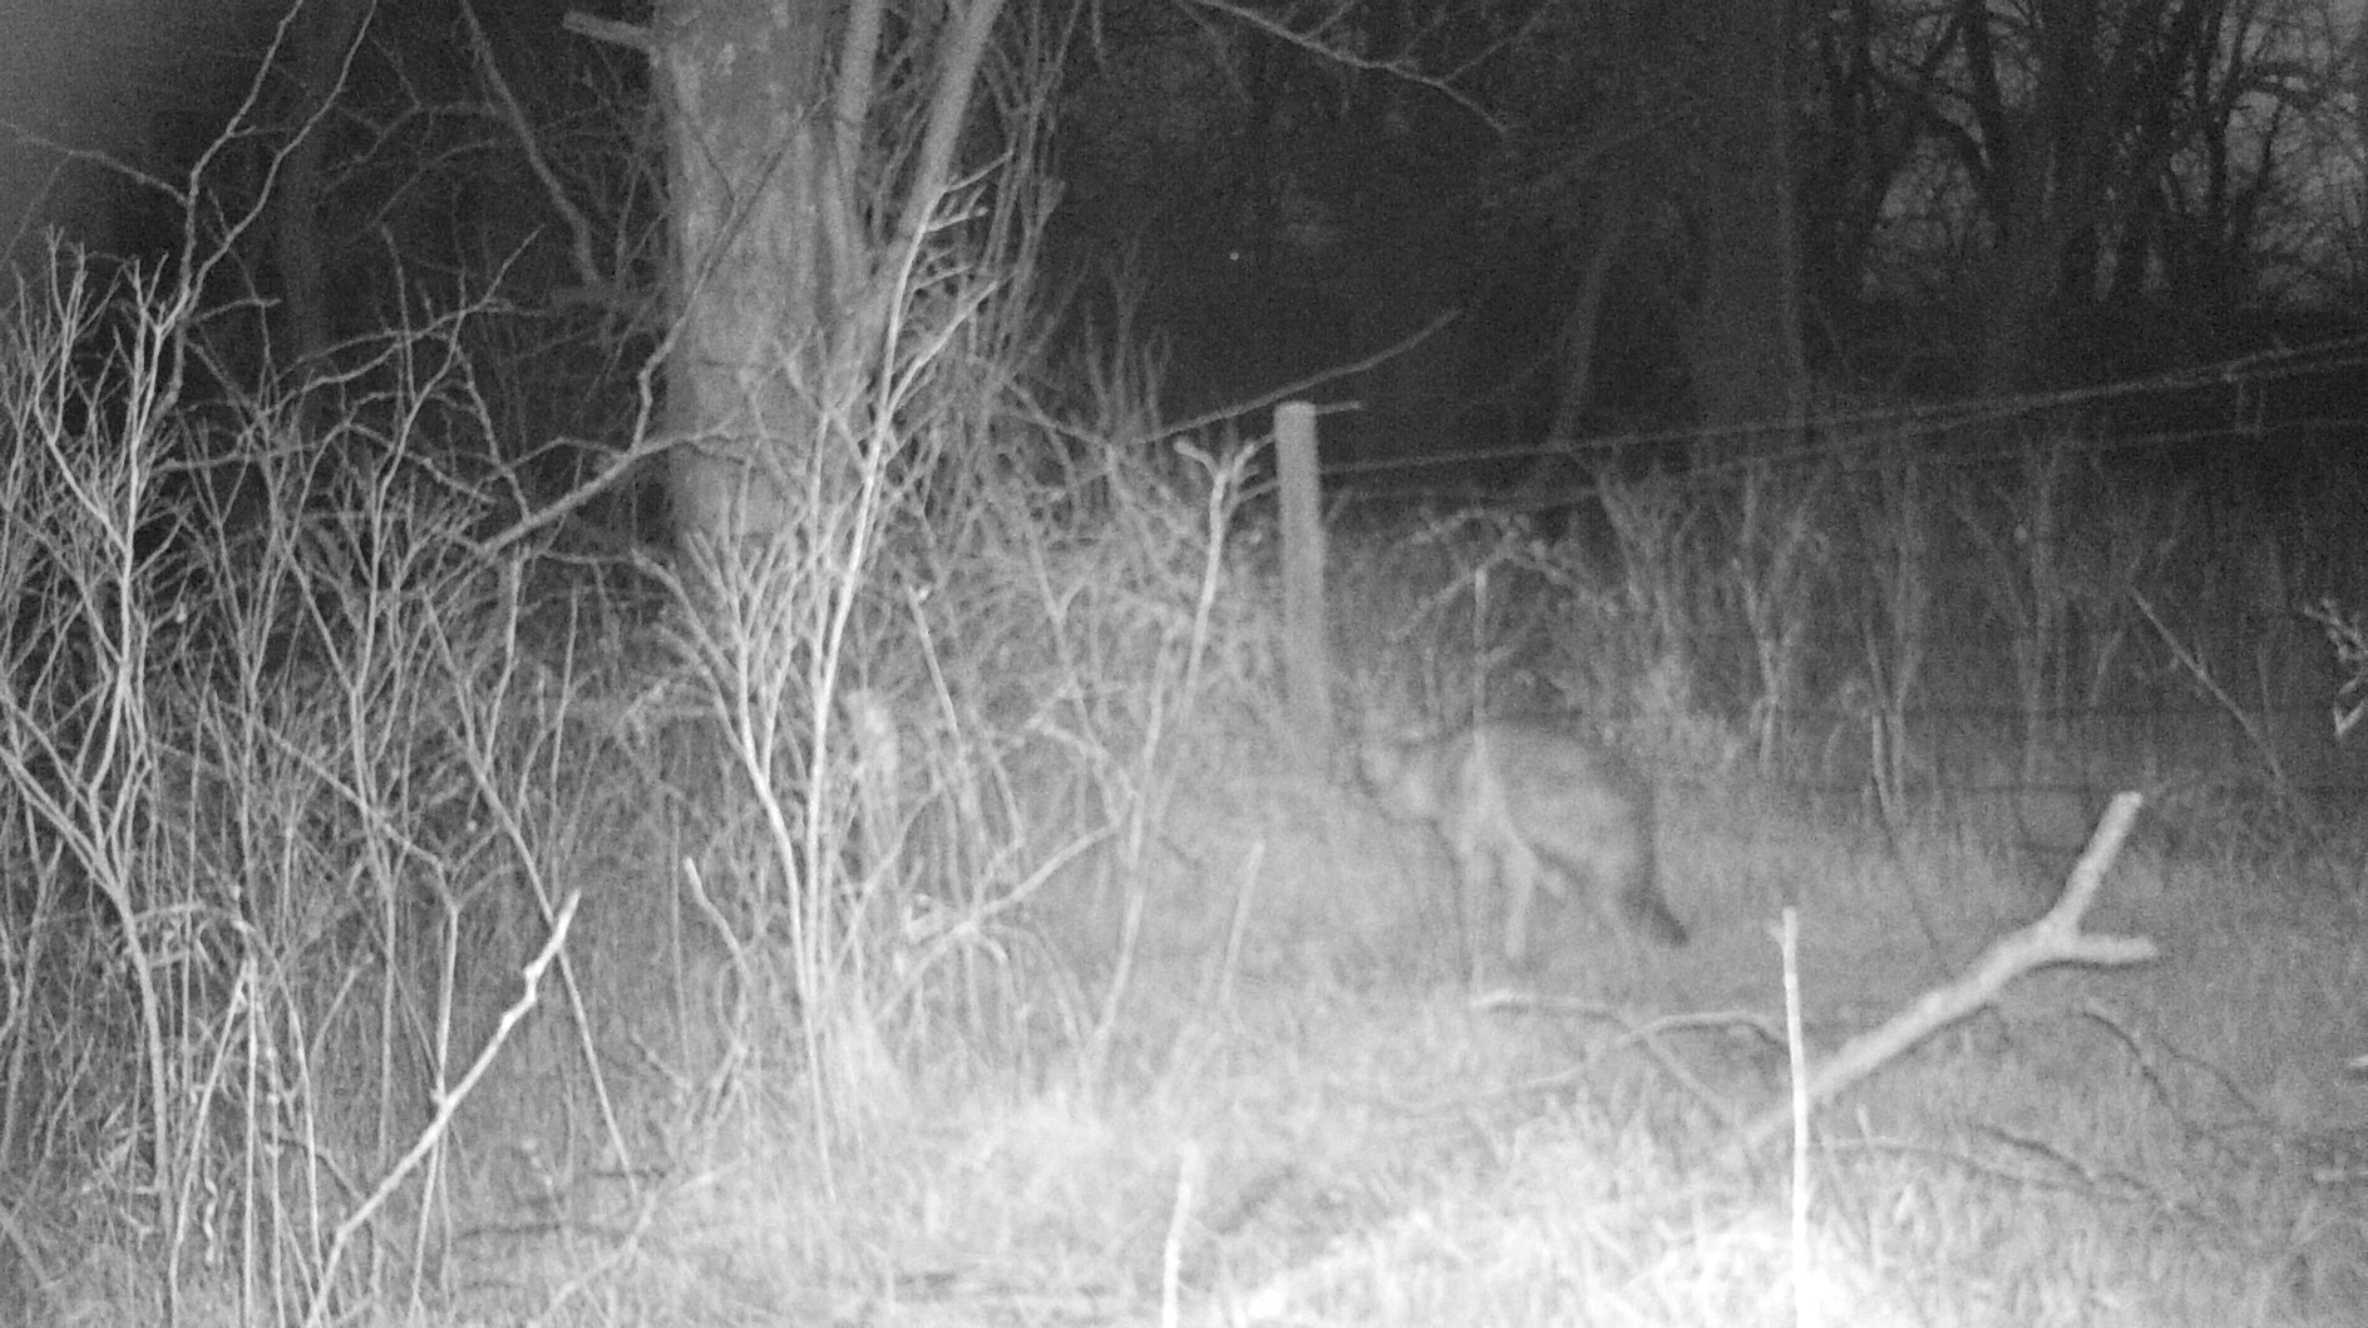Coyote: (1356, 704, 1691, 966)
